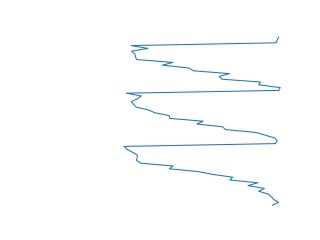distributaryMouthBar: (122, 33, 286, 209)
